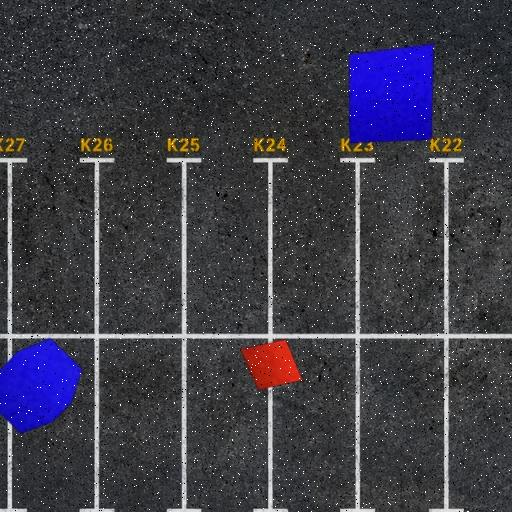BLUE_SQUARE: (348, 43, 434, 144)
RED_SQUARE: (240, 340, 303, 390)
